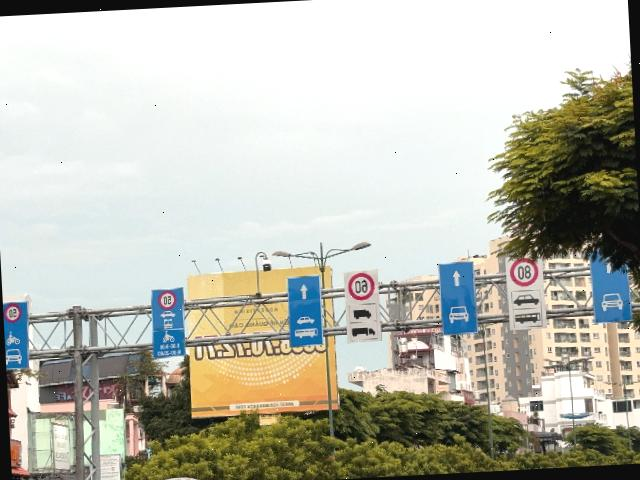toc-do-toi-da-cho-phep: (346, 272, 376, 302), (510, 258, 539, 287), (3, 302, 23, 324), (158, 290, 178, 311)
